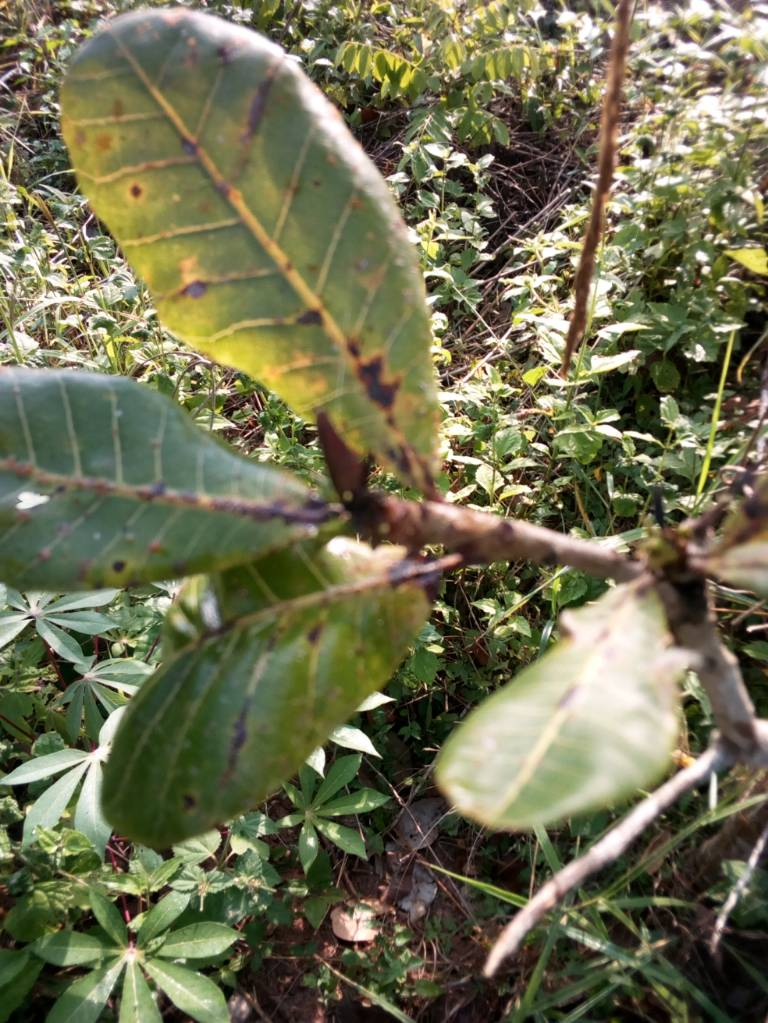Anthracnose: (61, 8, 435, 486), (93, 547, 450, 841), (1, 377, 343, 588)
